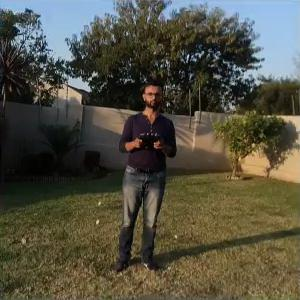follow: (110, 73, 179, 273)
